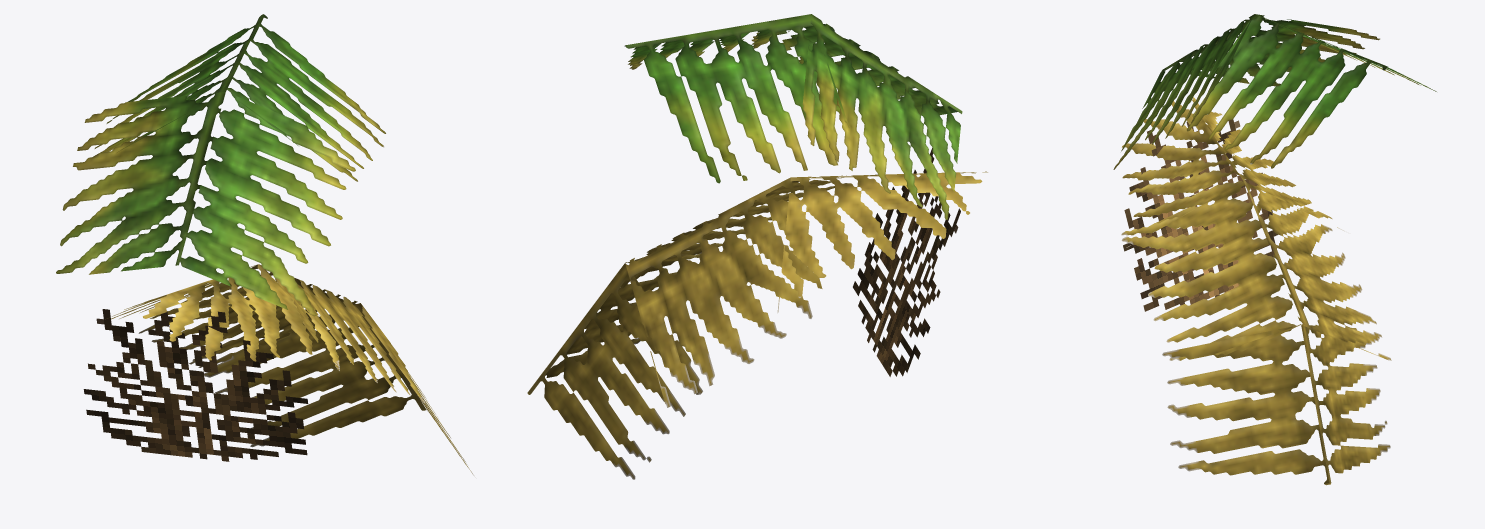
File: caribbean_royal_palm_old_corner_2.obj
The picture shows the model from 3 angles, left to right: view 1: azimuth 30°, elevation 25°; view 2: azimuth 150°, elevation 25°; view 3: azimuth 270°, elevation 25°; orthographic projection. The views are drawn at different scales.
Visible parts, largest first — view 1: cube.406; view 2: cube.406; view 3: cube.406.
Part boxes in pixels (<box>): cube.406: <box>56,14,473,475</box>; cube.406: <box>527,14,987,479</box>; cube.406: <box>1113,14,1436,485</box>.
Bounding box in the file's own units: 3 × 3.17 × 2.87.
